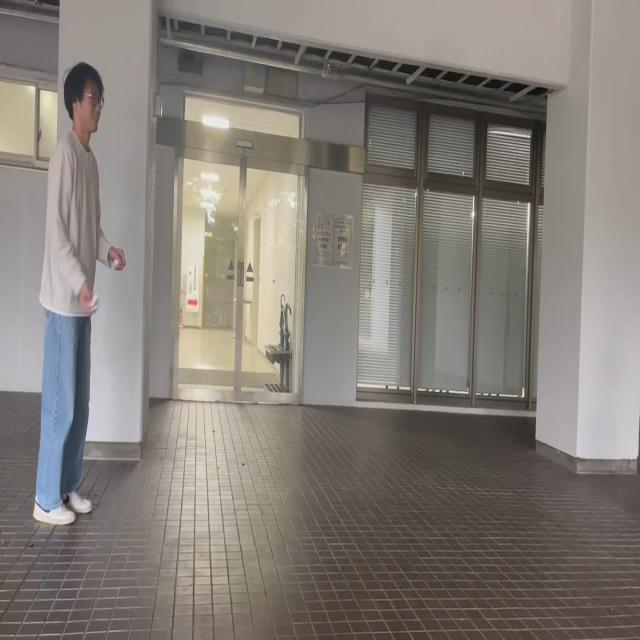paper: (112, 253, 124, 273), (88, 295, 100, 313)
